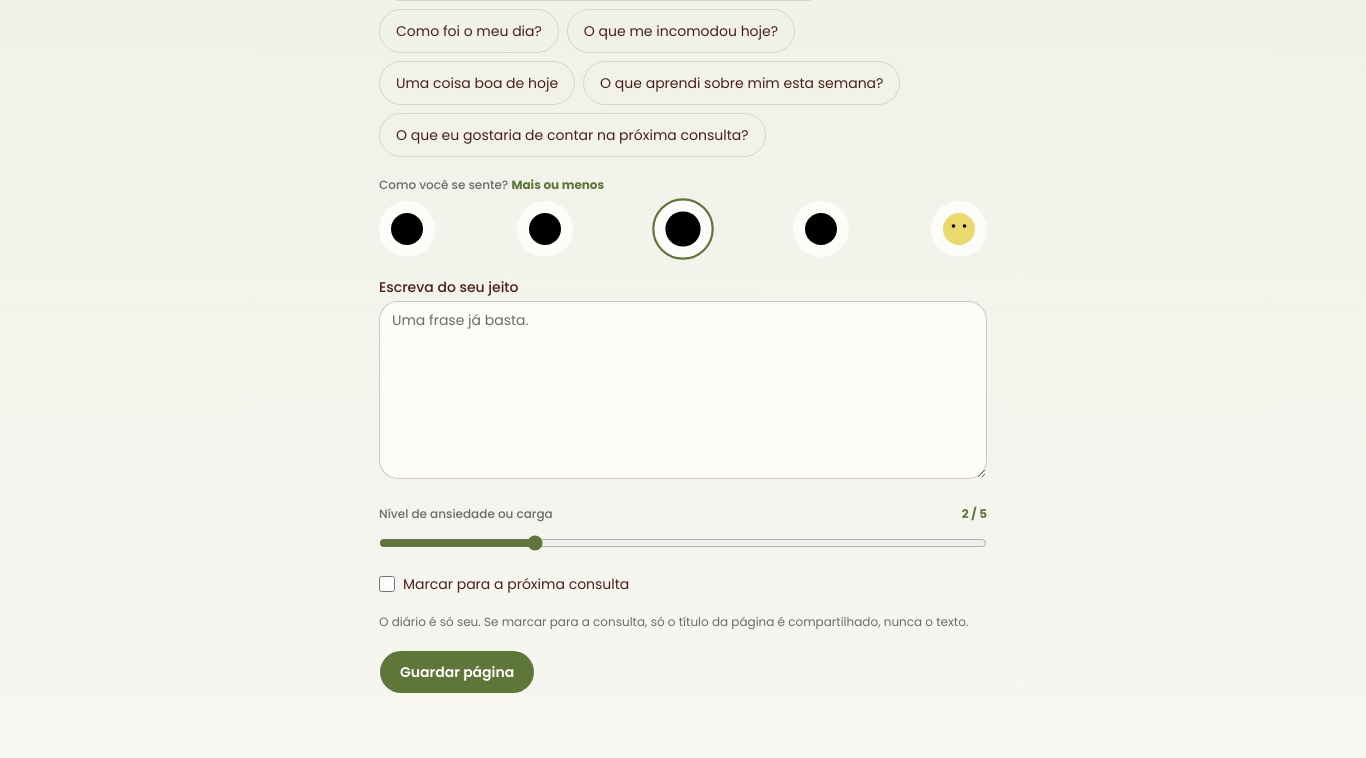
Diário novo › guarda uma página escrita e ela aparece em Páginas
(page scrolled)
Step 1. Type "Hoje foi um dia tranquilo no trabalho" into the text box labelled "Escreva do seu jeito" → [683, 390], box [379,300,987,478]
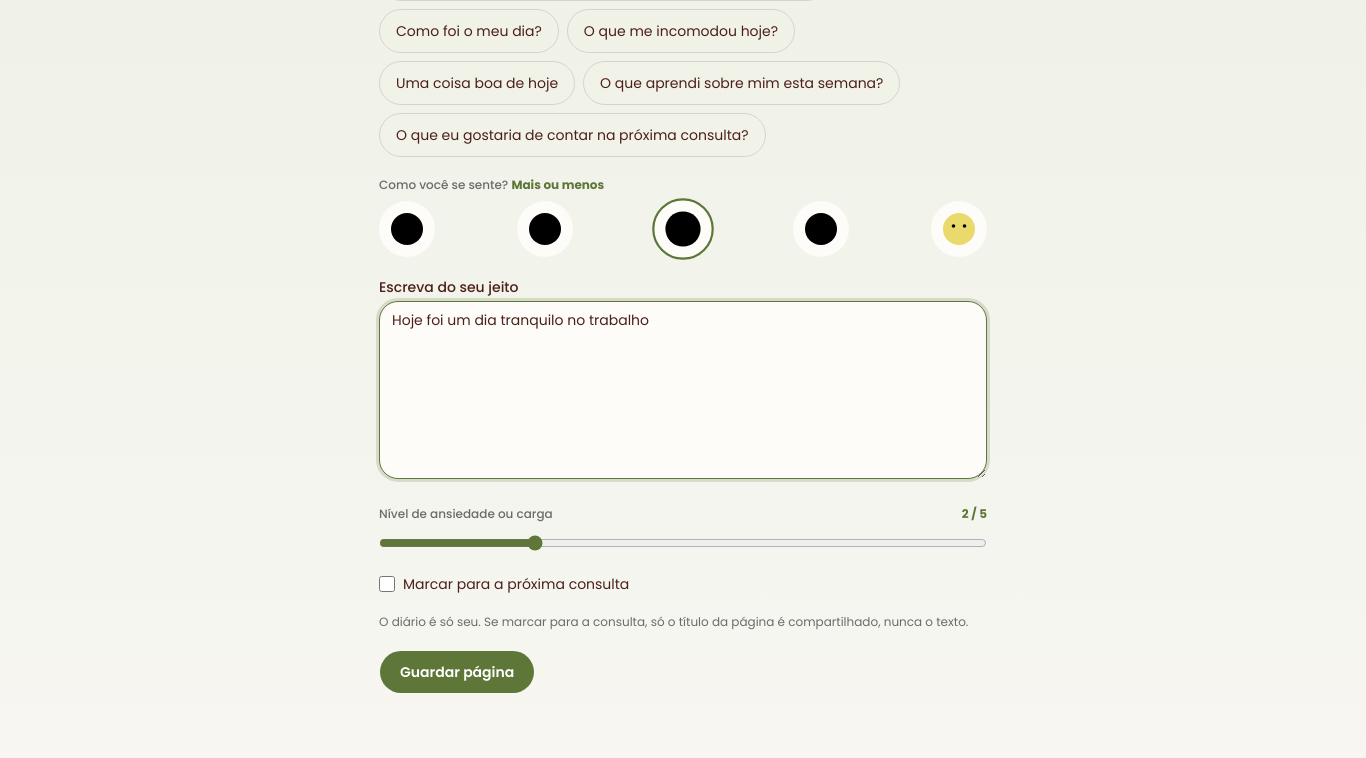
Step 2. Click the button "Guardar página" → [457, 672], box [379,650,535,694]
(page scrolled)
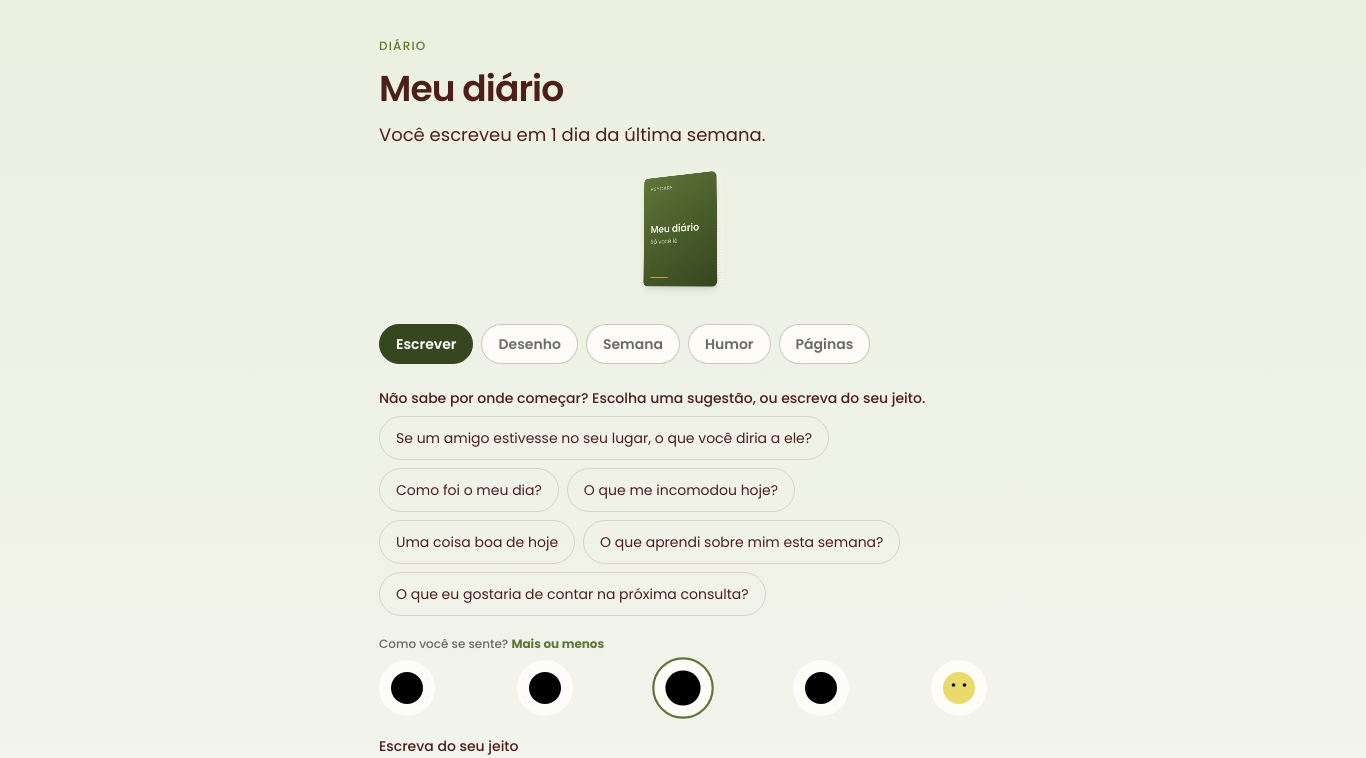
Step 3. Click the tab "Páginas" → [824, 344], box [778,324,870,364]
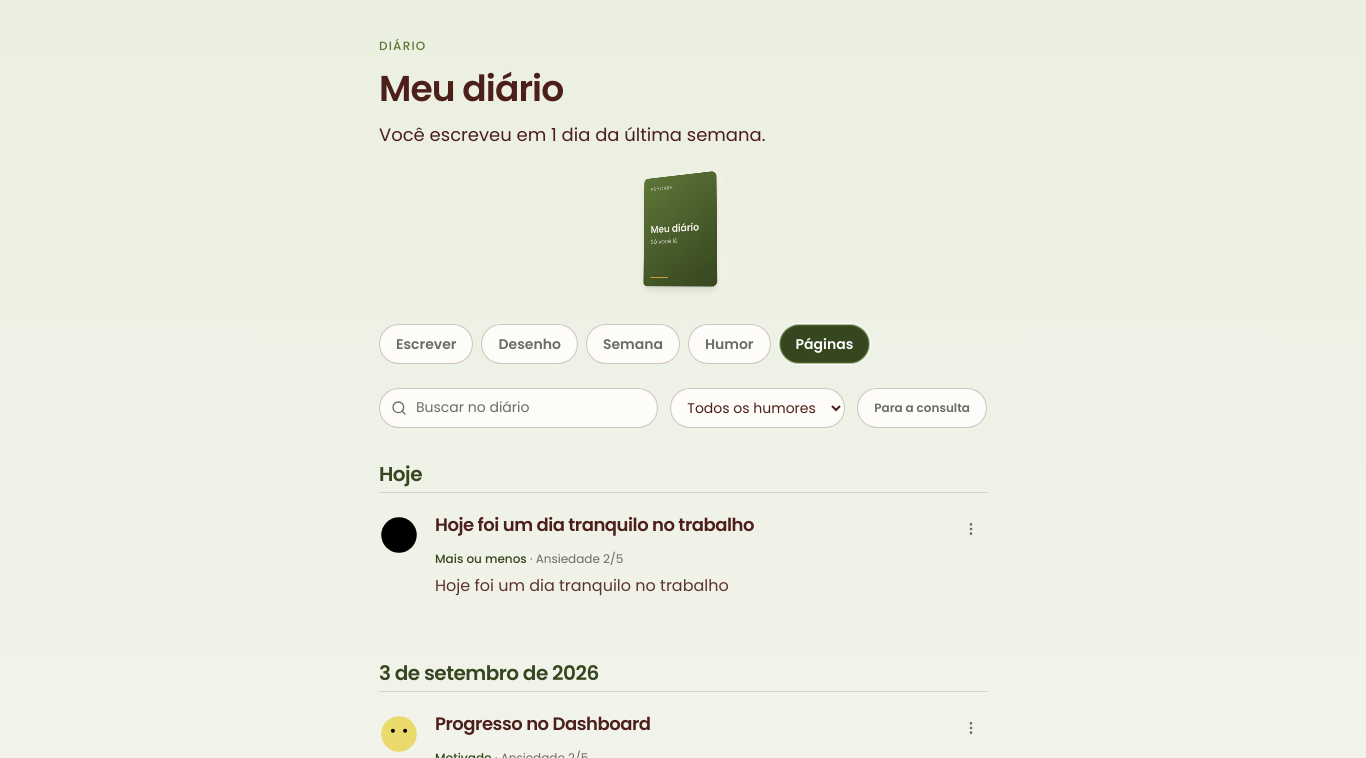
Now the heading "Hoje foi um dia tranquilo no trabalho" is shown, box [435,513,754,538]
